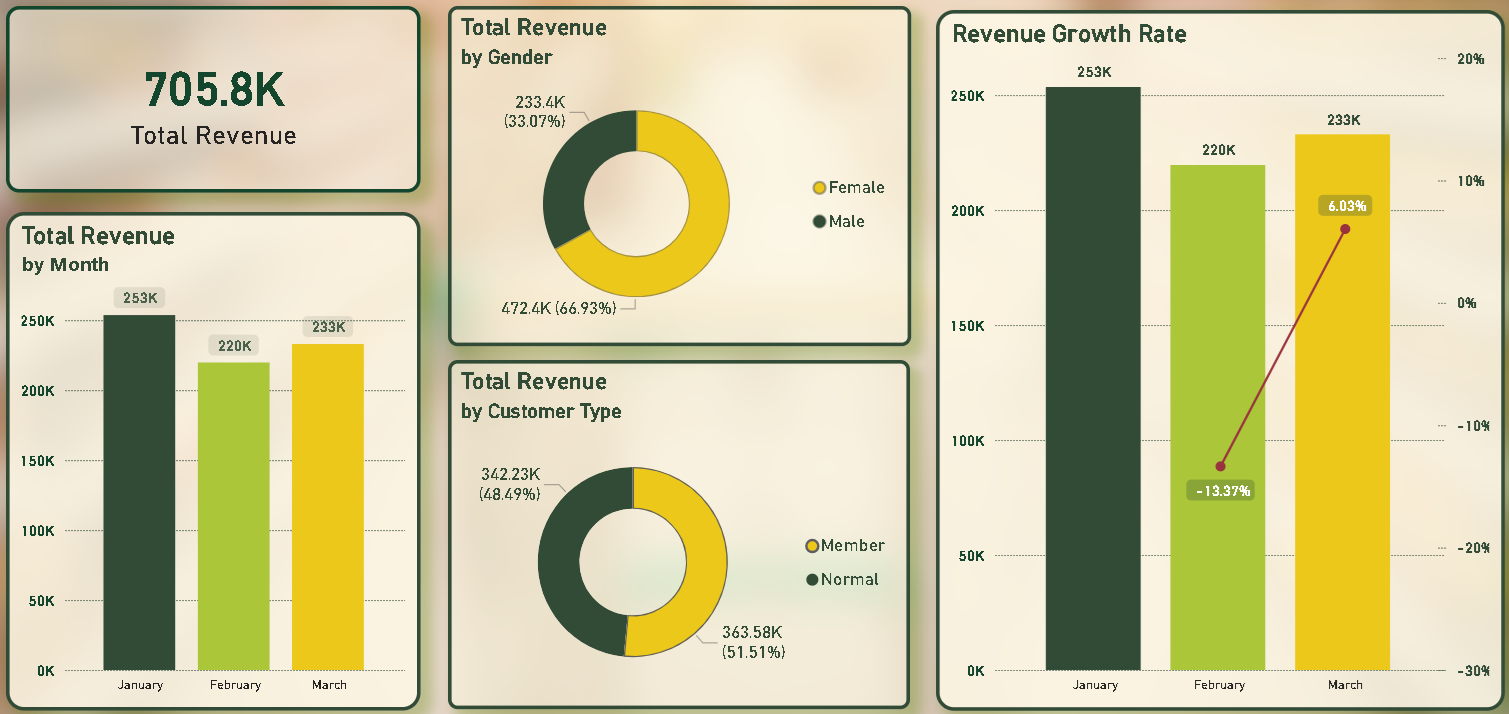

This screenshot's page, from the dashboard's own definition file:
{"tool":"powerbi","page":{"name":"REVENUE","canvas":[1280,720],"ordinal":0},"visuals":[{"type":"card","fields":{"Values":["Measure Table.Total Revenue"]},"box":[16.8,113.9,345.7,155.4],"z":0},{"type":"columnChart","title":"Total Revenue ","fields":{"Y":["Measure Table.Total Revenue"],"Category":["Calendar.Month Name"]},"box":[16.8,284.8,345.7,415.6],"z":1000},{"type":"donutChart","title":"Total Revenue ","fields":{"Category":["supermarket_sales.Gender"],"Y":["Measure Table.Total Revenue"]},"box":[384.9,113.4,386.1,283.5],"z":2000},{"type":"donutChart","title":"Total Revenue ","fields":{"Category":["supermarket_sales.Customer type"],"Y":["Measure Table.Total Revenue"]},"box":[384.9,409,384.9,290.8],"z":3000},{"type":"textbox","box":[2.4,0,769.2,113.7],"z":4000},{"type":"lineStackedColumnComboChart","title":"Revenue Growth Rate ","fields":{"Category":["Calendar.Month Name"],"Y":["Measure Table.Total Revenue"],"Y2":["Measure Table.Revenue Growth Rate (%)"]},"box":[791.4,117,474.1,583.9],"z":5000}]}

Visuals, with their boxes on the page's 1280x720 design canvas (x1, y1, x2, y2). These are canvas units, not pixel positions in the 1509x714 screenshot, which may show the page scaled, cropped or inside an application window:
card - Measure Table.Total Revenue: bbox=(17, 114, 362, 269)
"Total Revenue " columnChart: bbox=(17, 285, 362, 700)
"Total Revenue " donutChart: bbox=(385, 113, 771, 397)
"Total Revenue " donutChart: bbox=(385, 409, 770, 700)
textbox: bbox=(2, 0, 772, 114)
"Revenue Growth Rate " lineStackedColumnComboChart: bbox=(791, 117, 1266, 701)
